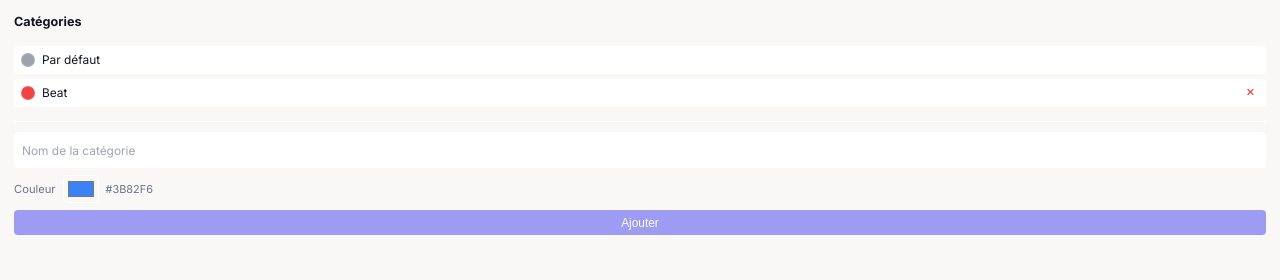
Test: CategoryManager › affiche erreur si la couleur existe déjà
Type "NouveauNom" into the field with placeholder "Nom de la catégorie" at (640, 150), box [14,132,1266,168]
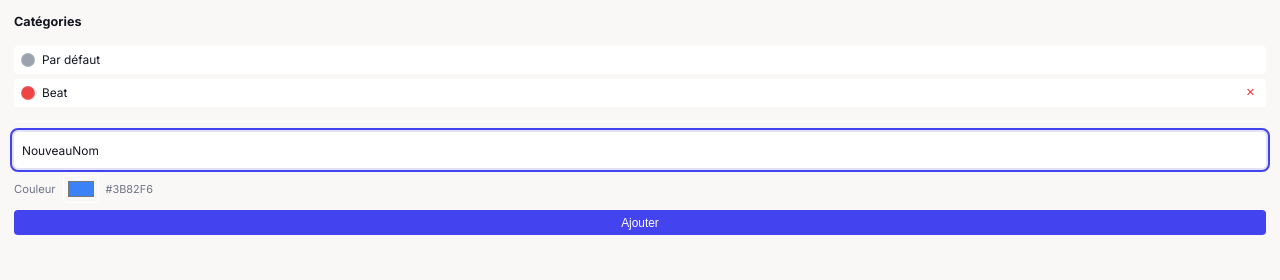
Changer la couleur à celle de 'Beat' (#EF4444)
Type "#EF4444" into the colour field labelled "Couleur" at (81, 189), box [63,175,99,203]
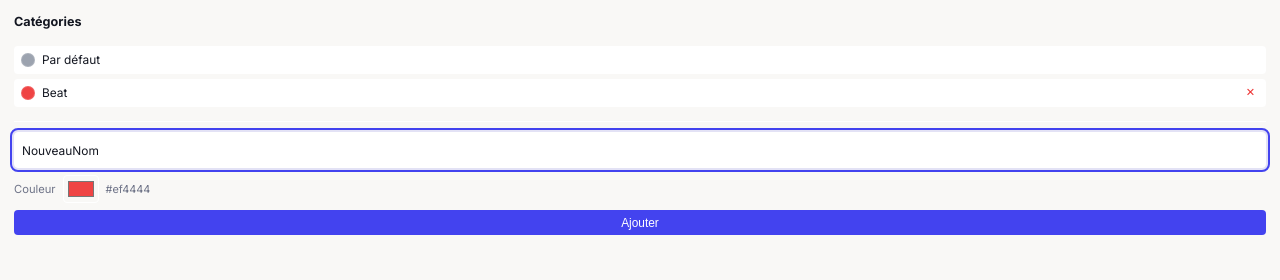
Click the button "Ajouter" at (640, 223), box [14,210,1266,236]
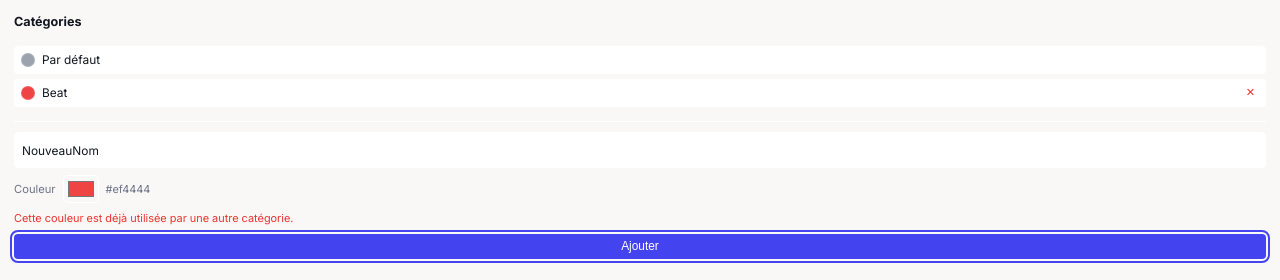
Expected: the text "Cette couleur est déjà utilisée par une autre catégorie." is shown, [14,211,294,225]
